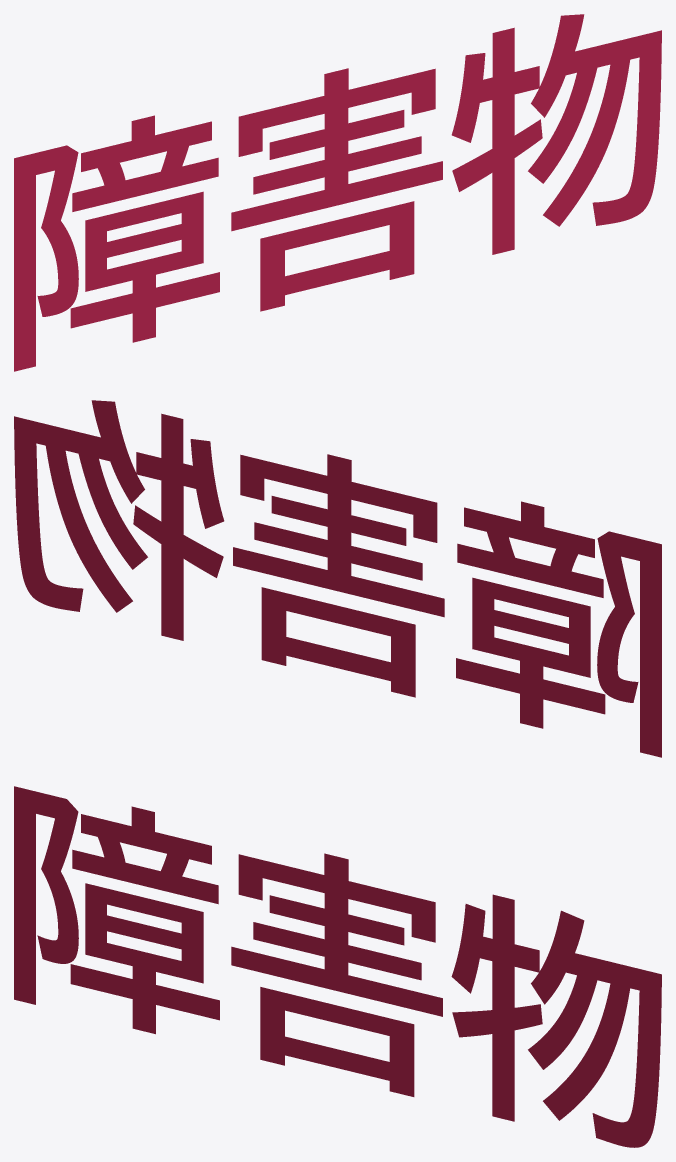
The model's file is obstructionText.obj.
3 renders of one model, top to bottom at view 1: azimuth 30°, elevation 25°; view 2: azimuth 150°, elevation 25°; view 3: azimuth 330°, elevation 25°, orthographic.
Visible parts, largest first — view 1: テキスト; view 2: テキスト; view 3: テキスト.
Part boxes in pixels (x1,y1,x2,y2): テキスト: (14, 14, 661, 371); テキスト: (14, 400, 661, 757); テキスト: (14, 786, 661, 1147).
Size of the model in its own units: 2.9 by 0.9531 by 0.
